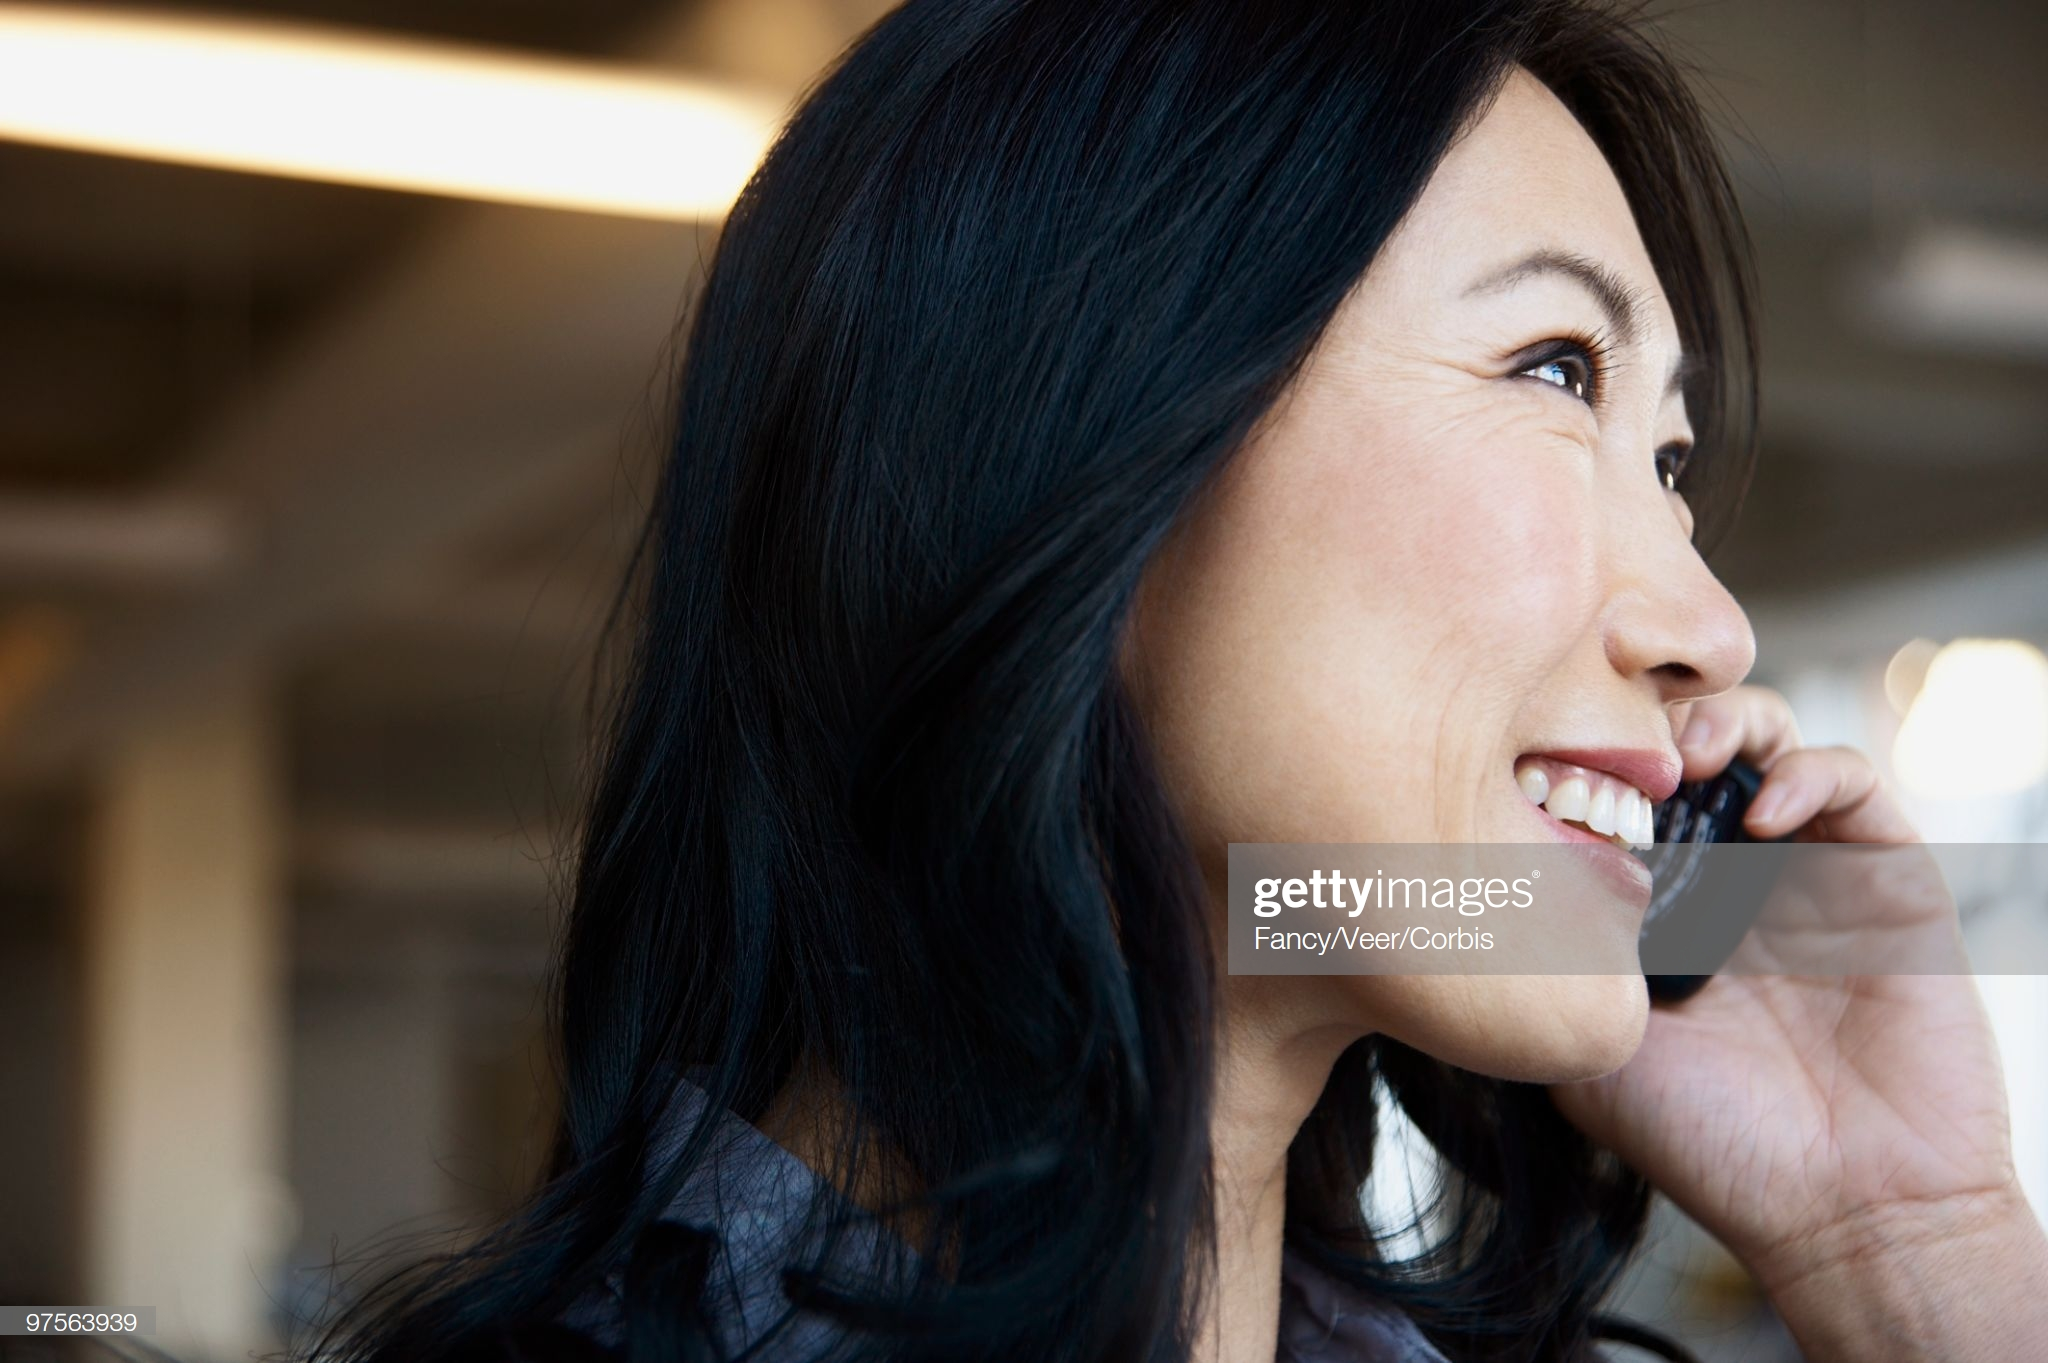phone: (1609, 689, 1937, 1098)
